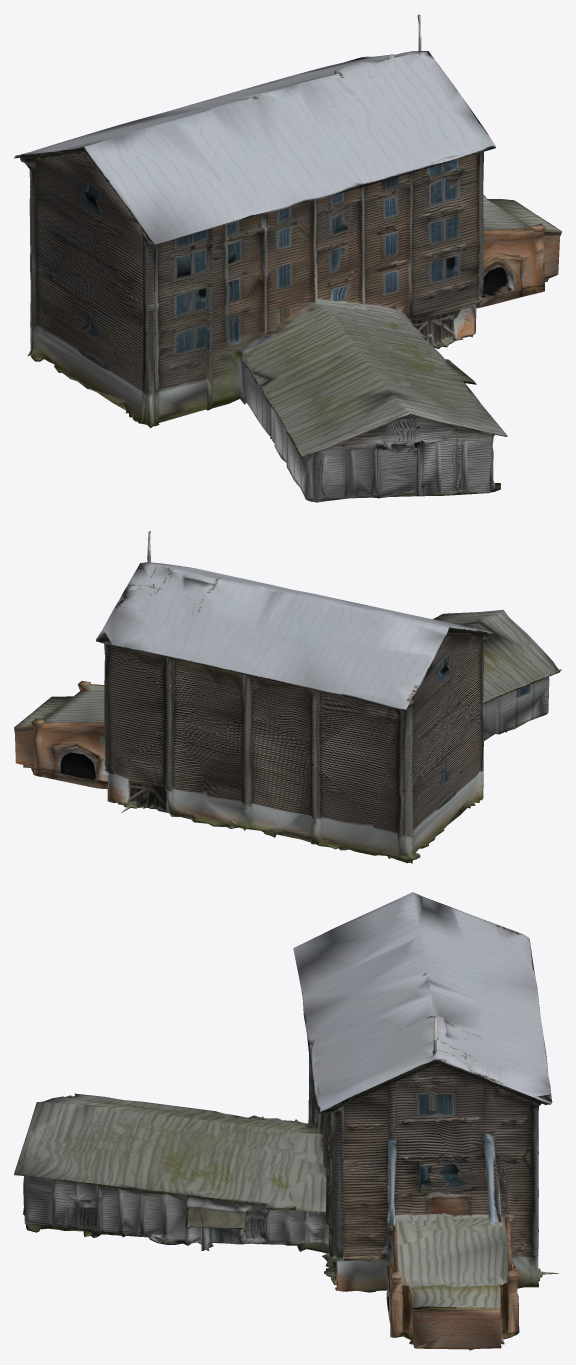
The model's file is shed.glb.
3 views of the same model, one above another, from view 1: azimuth 30°, elevation 25°; view 2: azimuth 150°, elevation 25°; view 3: azimuth 270°, elevation 25° (orthographic). The views are drawn at different scales.
Visible parts, largest first — view 1: tripo_node_232caa9f-670c-40c1-8c6b-d3630e3d6c68; view 2: tripo_node_232caa9f-670c-40c1-8c6b-d3630e3d6c68; view 3: tripo_node_232caa9f-670c-40c1-8c6b-d3630e3d6c68.
Part boxes in pixels (left/top/right/bottom): tripo_node_232caa9f-670c-40c1-8c6b-d3630e3d6c68: left=14, top=14, right=561, bottom=502; tripo_node_232caa9f-670c-40c1-8c6b-d3630e3d6c68: left=14, top=531, right=561, bottom=863; tripo_node_232caa9f-670c-40c1-8c6b-d3630e3d6c68: left=14, top=892, right=560, bottom=1350.
Bounding box in the file's own units: 1.75 × 1 × 1.78.
Materials: 1 (1 with a texture image).
